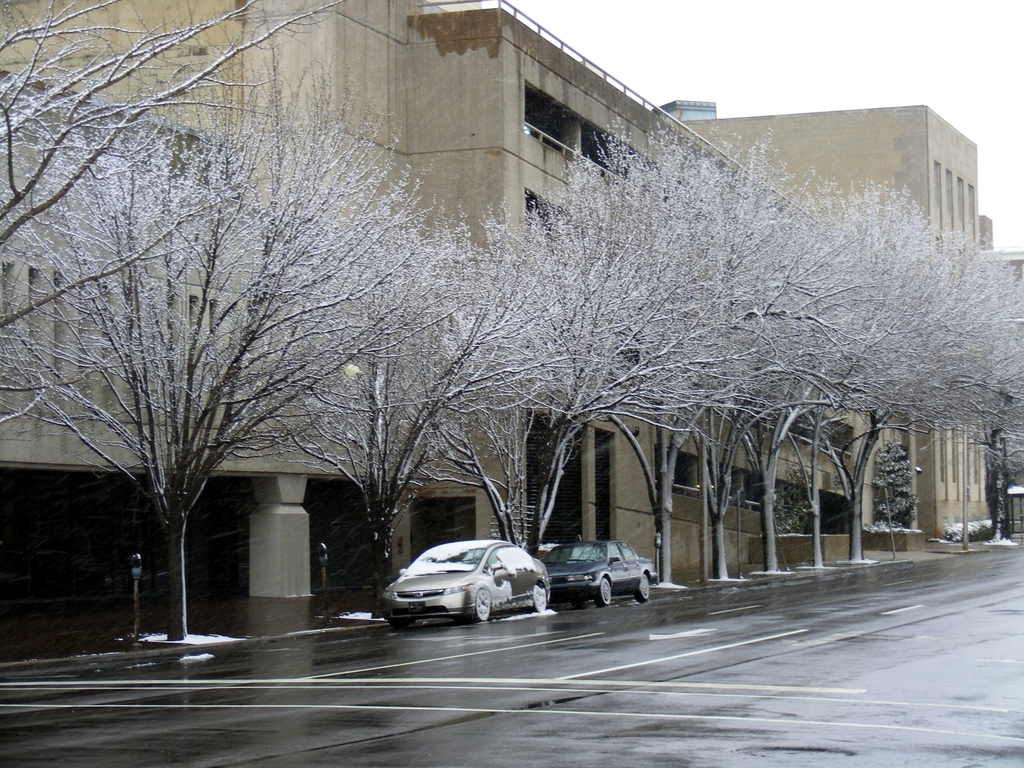Car: (375, 541, 547, 628), (546, 540, 655, 603)
